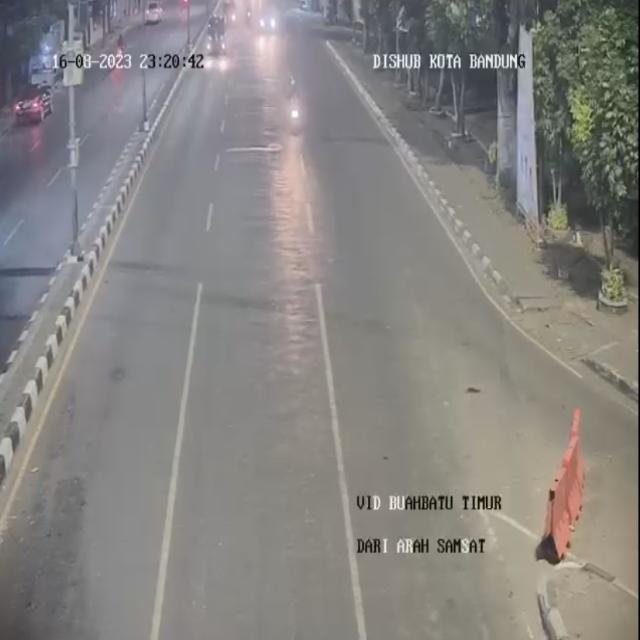motorcycle: (288, 81, 308, 137)
